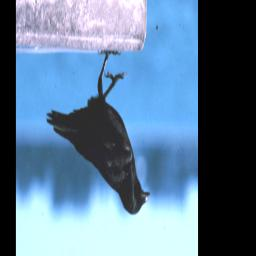Crow: (45, 47, 151, 220)
